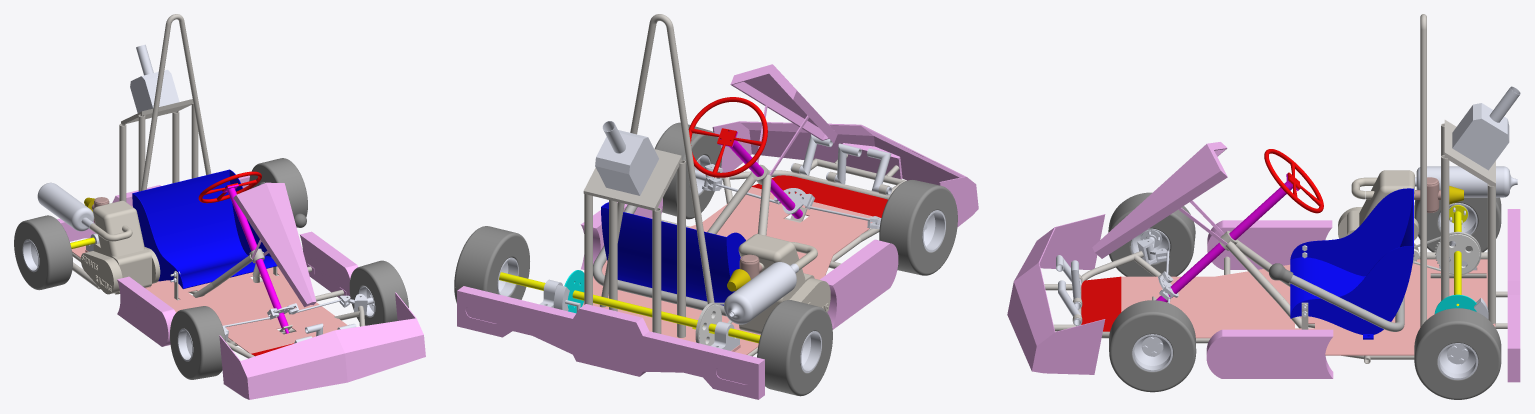
File: Petrol_Kart.glb
The picture shows the model from 3 angles, left to right: view 1: azimuth 30°, elevation 25°; view 2: azimuth 150°, elevation 25°; view 3: azimuth 270°, elevation 25°; orthographic projection. The views are drawn at different scales.
Parts seen in each view (by area): view 1: go kart 2025 3; view 2: go kart 2025 3; view 3: go kart 2025 3.
Part boxes in pixels (x1=…): go kart 2025 3: x1=14, y1=14, x2=425, y2=399; go kart 2025 3: x1=454, y1=14, x2=978, y2=399; go kart 2025 3: x1=1007, y1=14, x2=1520, y2=399.
Size of the model in its own units: 1.18 by 1.12 by 1.65.
